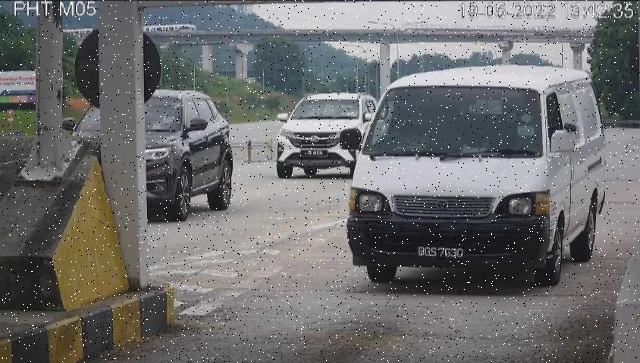License_Plate: (414, 243, 468, 264)
van: (347, 67, 607, 288)
